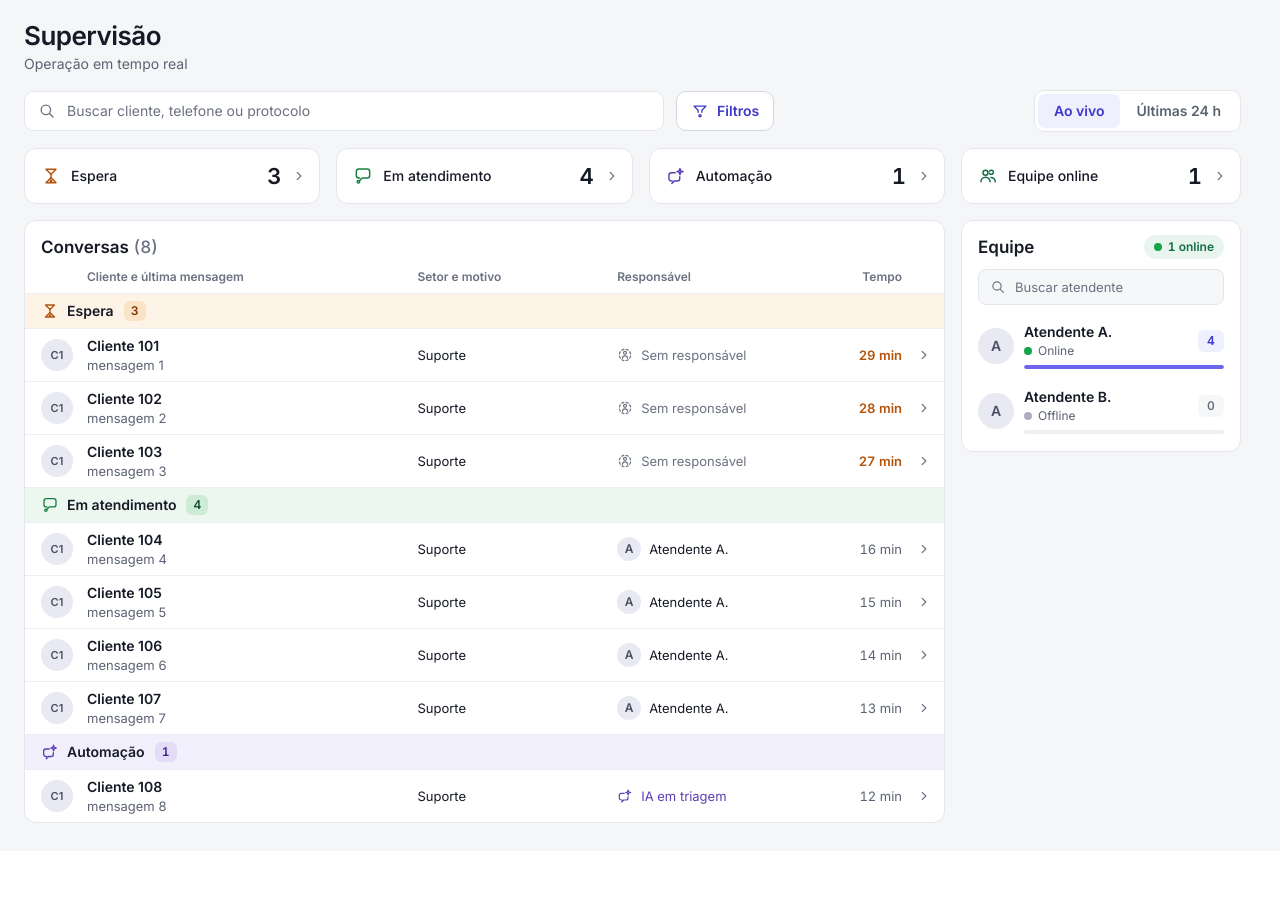
Test: evento de outra conversa não redesenha o popup aberto › evento da própria conversa aberta chega ao popup
Expected: the button "C1 Cliente 101 mensagem 1 Suporte Sem responsável 29 min" is shown, [25,329,944,381]
Click the button "C1 Cliente 104 mensagem 4 Suporte A Atendente A. 16 min": (57,549) [25,523,944,575]
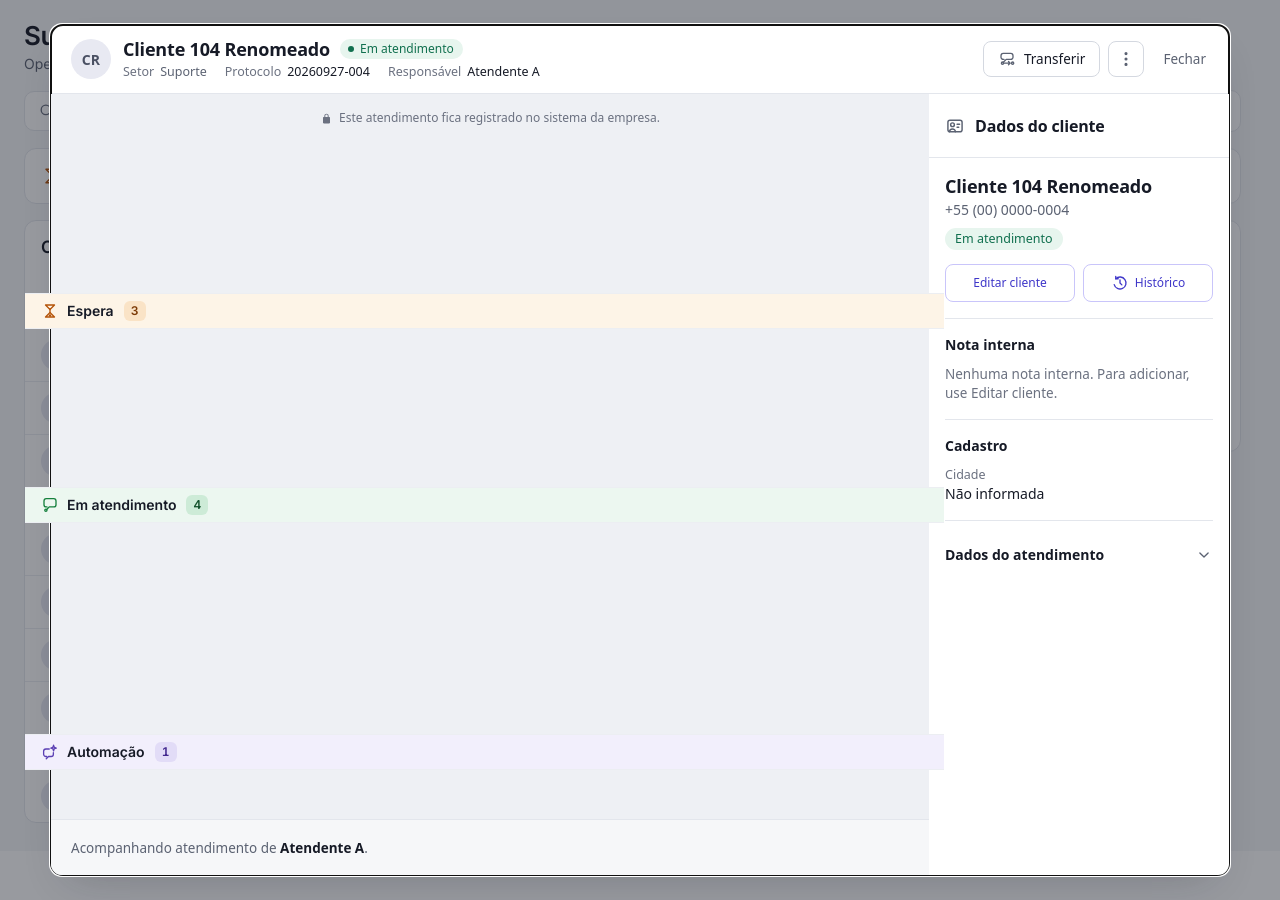
Result: the 1st heading "Cliente 104 Renomeado" is shown at [123,37,330,61]
